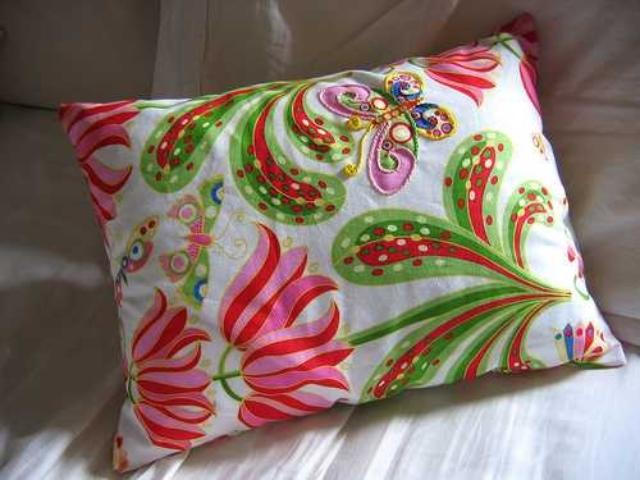pillow: (55, 10, 625, 474)
